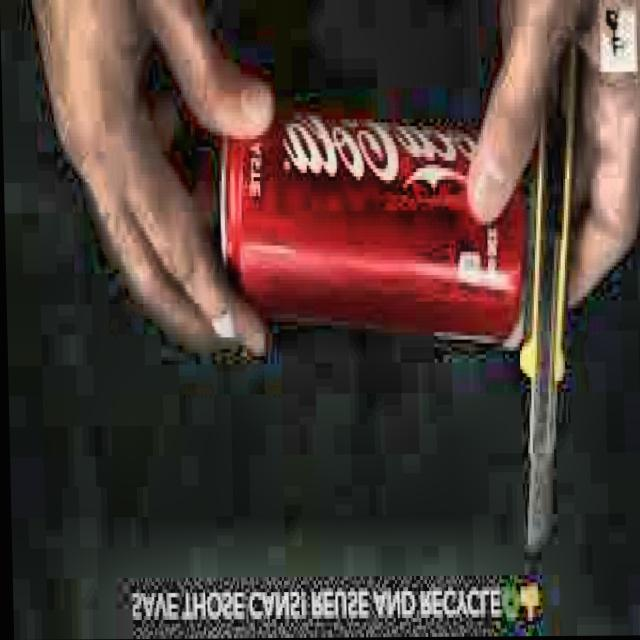can: (213, 103, 542, 359)
